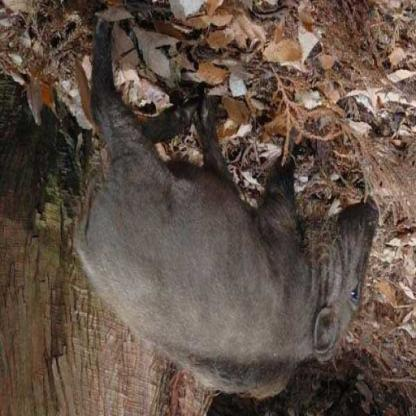boar: (41, 14, 382, 414)
